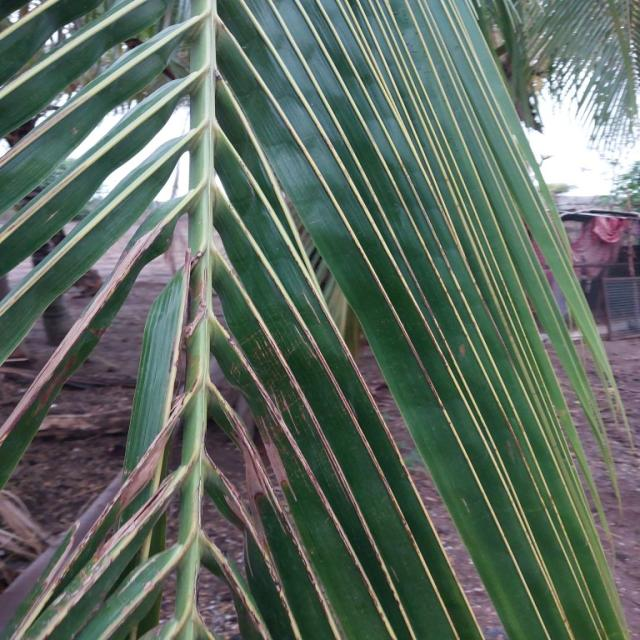gray leaf spot: (75, 204, 305, 632)
